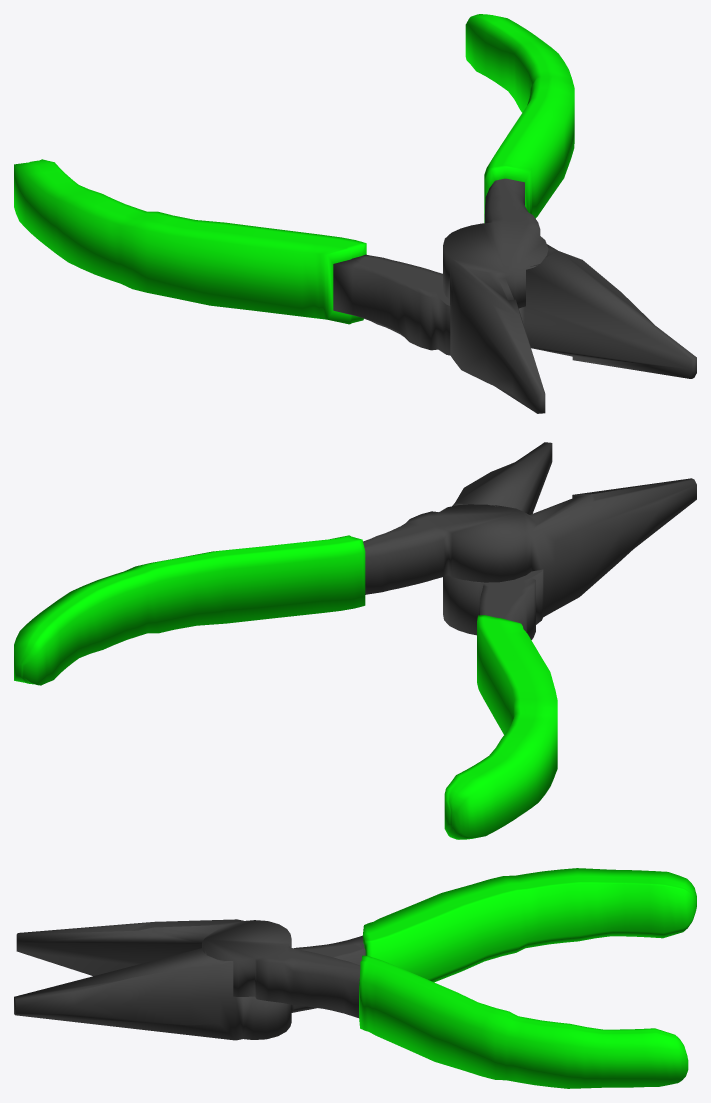
File: needle nose pliers.fbx
3 views of the same model, one above another, from view 1: azimuth 30°, elevation 25°; view 2: azimuth 150°, elevation 25°; view 3: azimuth 270°, elevation 25° (orthographic). The views are drawn at different scales.
Visible parts, largest first — view 1: Cube.002, Cube.001; view 2: Cube.001, Cube.002; view 3: Cube.002, Cube.001.
Boxes of the visible parts, x1,y1,x2,y2 form: Cube.002: [14, 159, 696, 378]; Cube.001: [443, 14, 574, 413]; Cube.001: [14, 478, 696, 685]; Cube.002: [443, 442, 557, 839]; Cube.002: [14, 868, 696, 1040]; Cube.001: [16, 919, 688, 1088].
Bounding box in the file's own units: 402 × 94 × 548.
